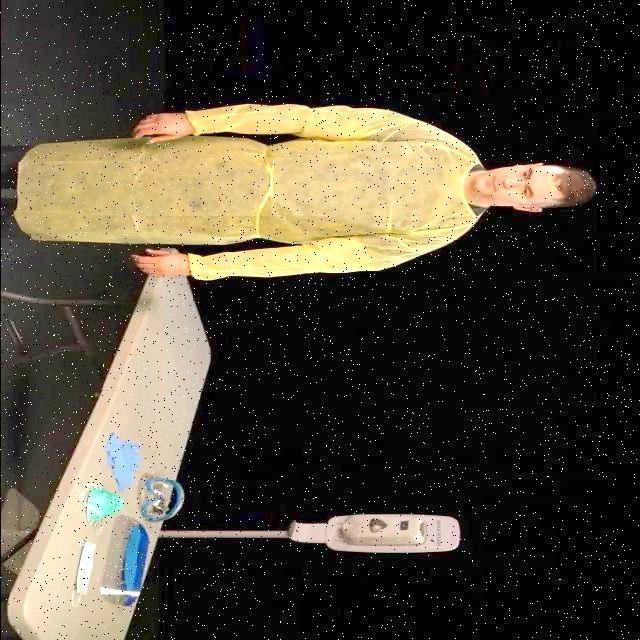no_apron: (122, 106, 198, 148), (132, 244, 186, 281)
no_hairnet: (482, 157, 534, 201)
